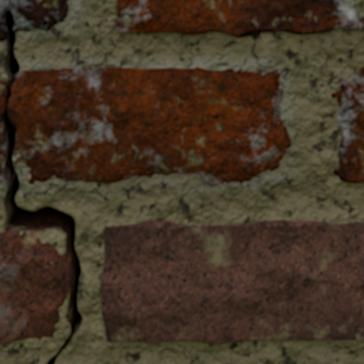brick: (102, 221, 363, 344), (117, 0, 363, 36), (0, 233, 71, 343), (332, 67, 363, 182)
broken_brick: (6, 67, 291, 185), (0, 0, 69, 41), (0, 118, 3, 162), (0, 80, 3, 113), (0, 167, 3, 182)
crack: (0, 2, 84, 363)
